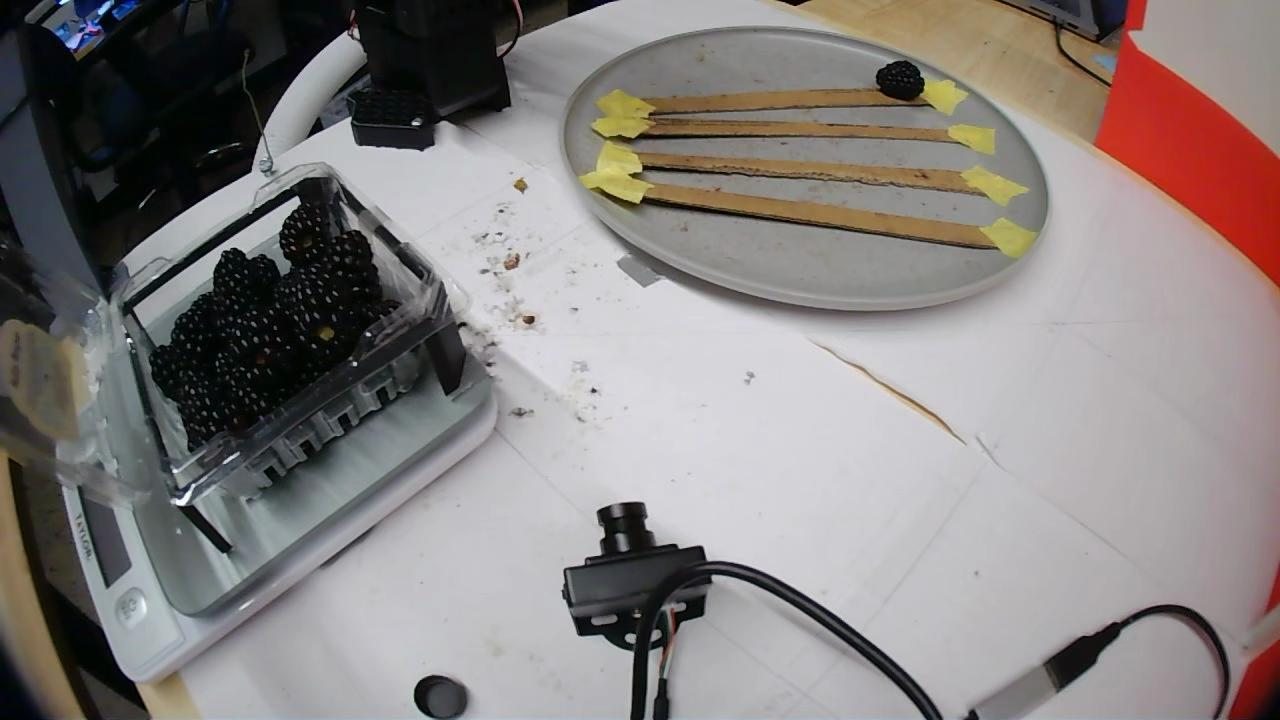berry: (282, 264, 357, 378), (230, 306, 297, 384), (177, 375, 240, 447), (323, 230, 379, 300), (212, 248, 267, 318), (216, 347, 262, 430), (172, 293, 221, 363), (279, 201, 329, 264), (150, 345, 195, 403), (875, 60, 924, 100), (356, 293, 399, 332), (248, 254, 280, 297)
